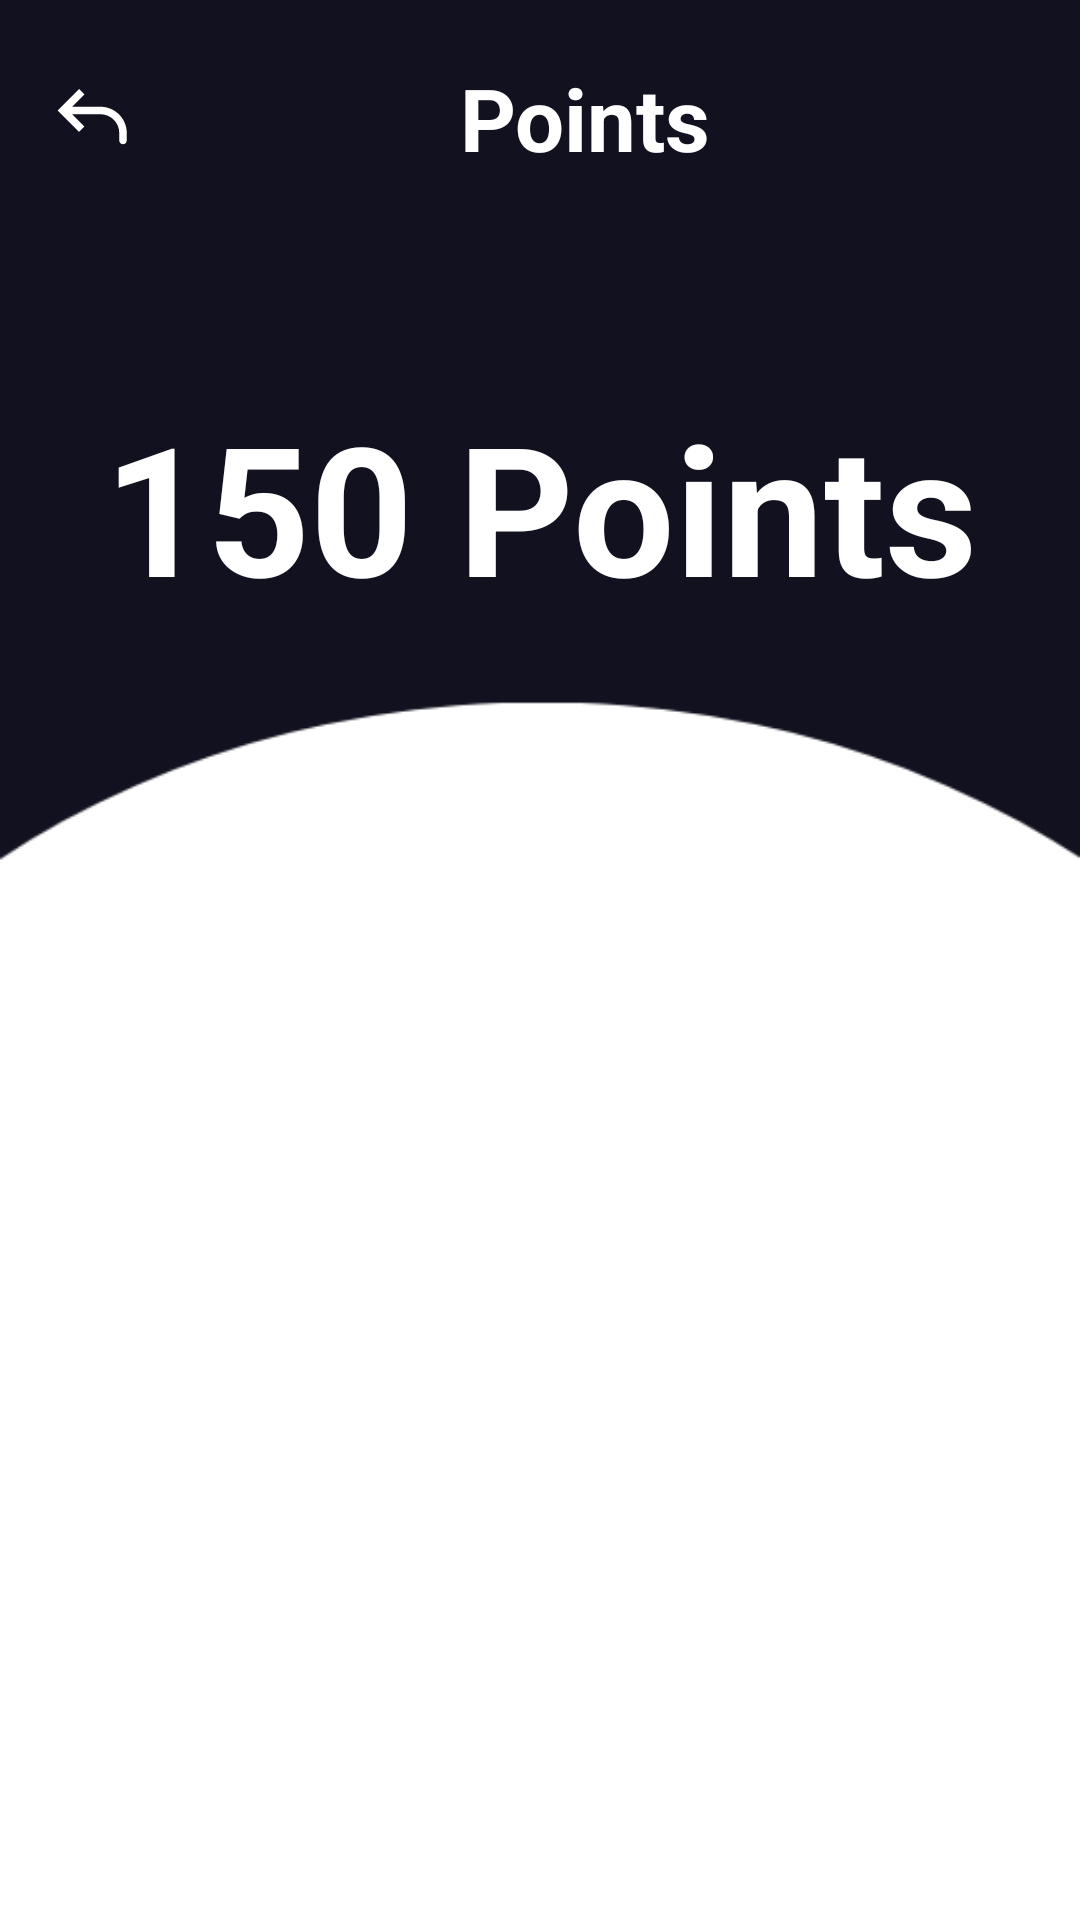

Locate icon controls on the screen. Image size 1080×1920, boxes as (x1, y1, x2, y2).
back: (57, 89, 127, 145)
